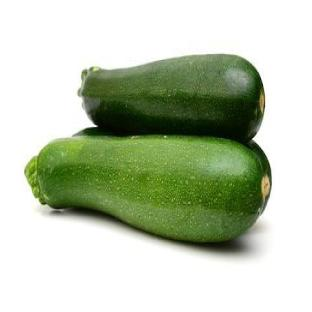Zucchini: (26, 132, 269, 242), (79, 54, 264, 141)
